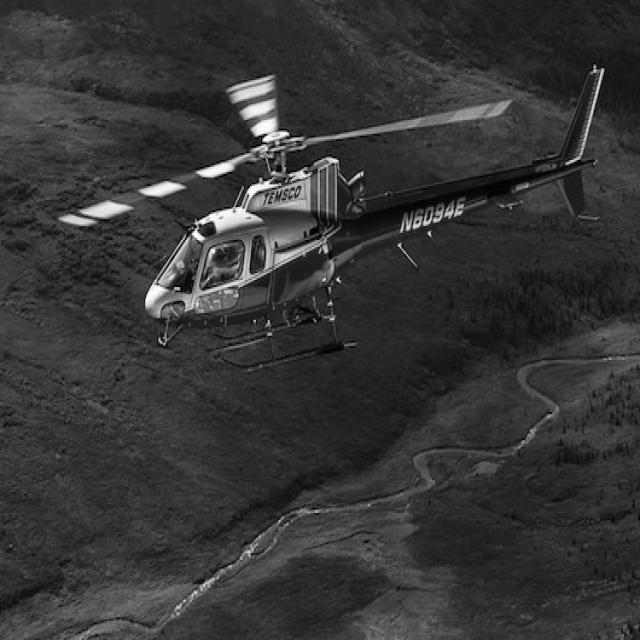helicopter: (62, 65, 608, 375)
